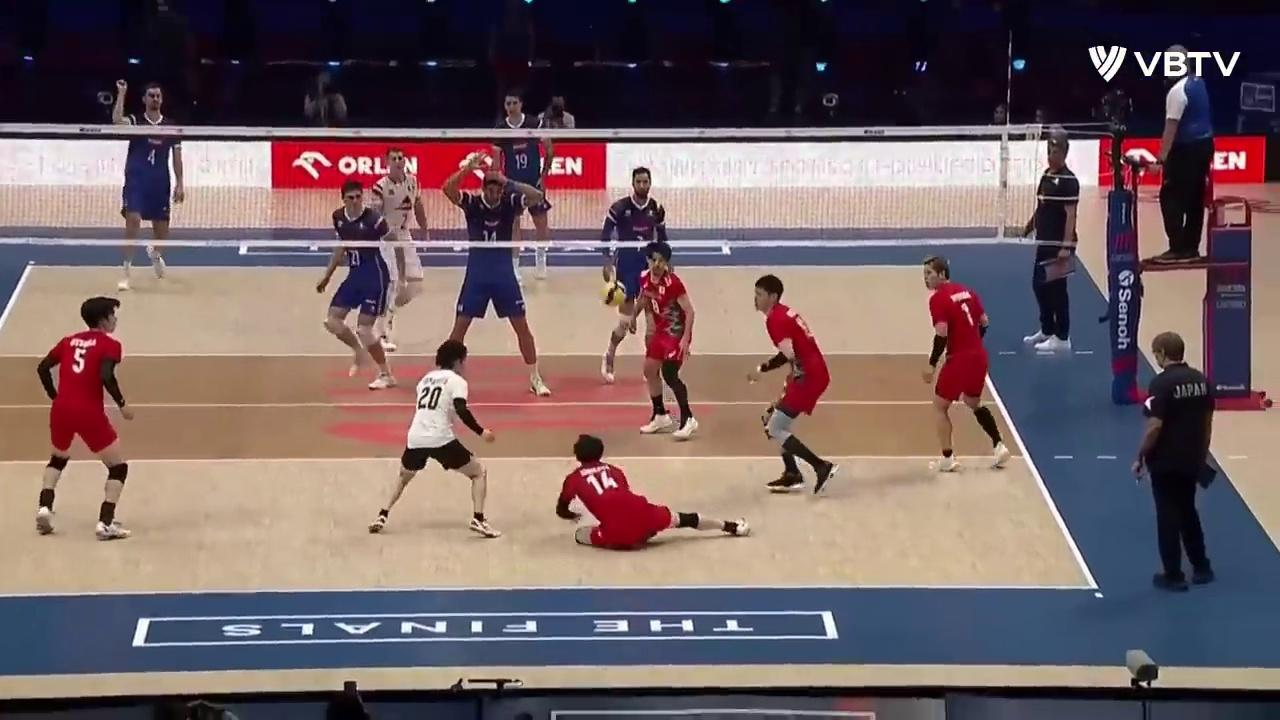ball: (600, 279, 628, 308)
